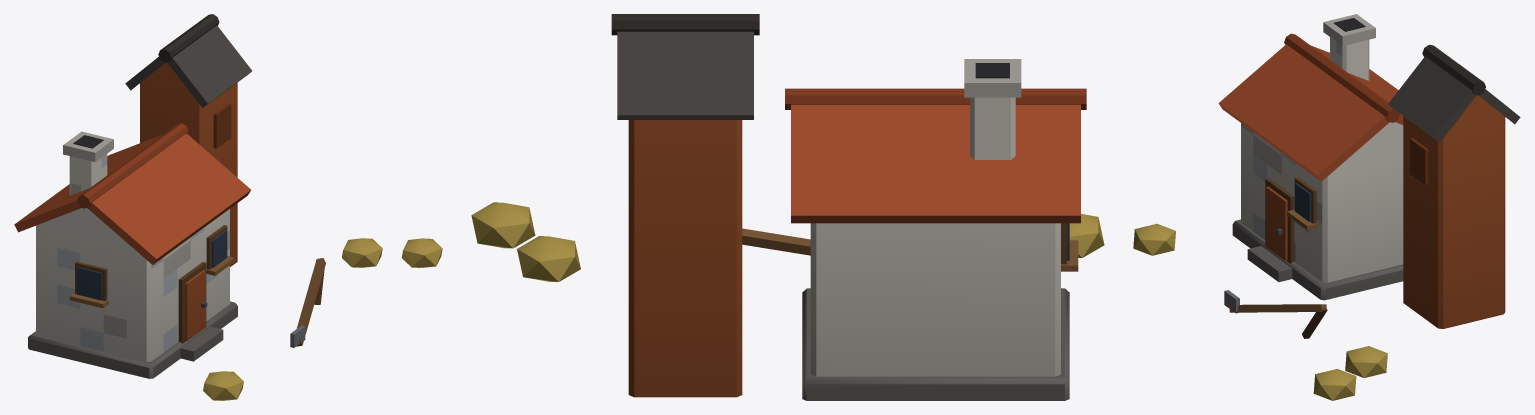
File: building_8.glb
3 renders of one model, left to right at view 1: azimuth 30°, elevation 25°; view 2: azimuth 150°, elevation 25°; view 3: azimuth 270°, elevation 25°, orthographic. The views are drawn at different scales.
Parts seen in each view (by area): view 1: building_8; view 2: building_8; view 3: building_8.
Part boxes in pixels (<box>): building_8: <box>14,14,442,400</box>; building_8: <box>471,14,1104,400</box>; building_8: <box>1133,14,1520,400</box>.
Size of the model in its own units: 1.28 by 0.7081 by 0.9994.
